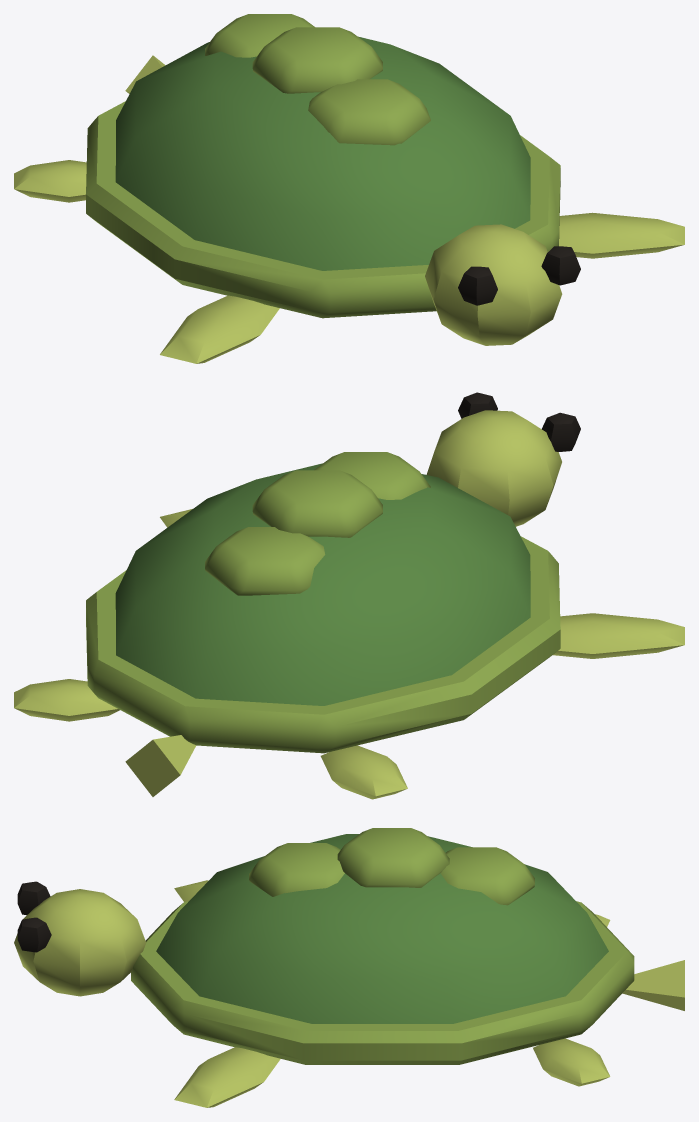
Rendered from beach_turtle.glb.
3 renders of one model, top to bottom at view 1: azimuth 30°, elevation 25°; view 2: azimuth 150°, elevation 25°; view 3: azimuth 270°, elevation 25°, orthographic. The views are drawn at different scales.
Visible parts, largest first — view 1: beach_turtle; view 2: beach_turtle; view 3: beach_turtle.
Boxes of the visible parts, x1,y1,x2,y2 form: beach_turtle: (14,14,684,363); beach_turtle: (14,392,684,799); beach_turtle: (14,828,684,1107).
Size of the model in its own units: 0.57 by 0.1975 by 0.71.
Materials: 1 (1 with a texture image).
